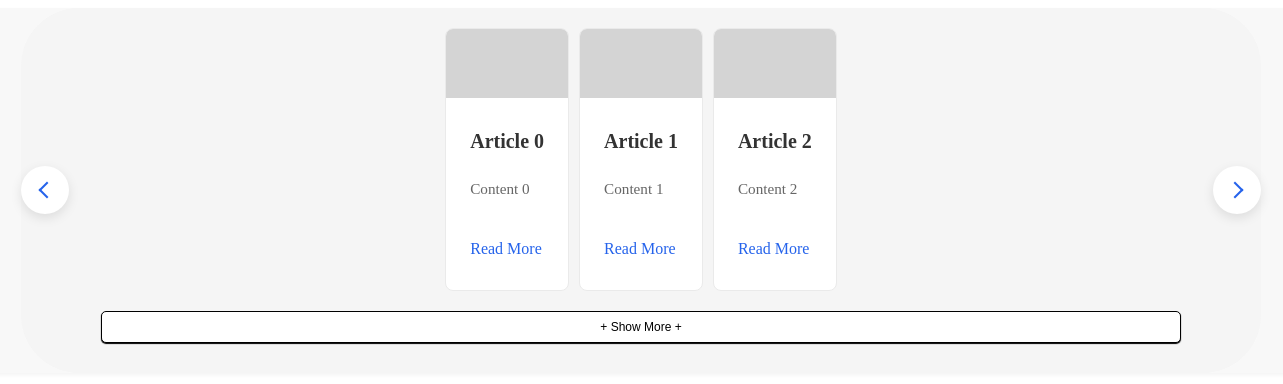
Test: ArticleCarousel › navigation › shows previous set of articles when clicking previous arrow
This screenshot has width=1283, height=384.
Navigate forward first
Click the button named "Next articles": (1237, 190) [1213,166,1261,214]
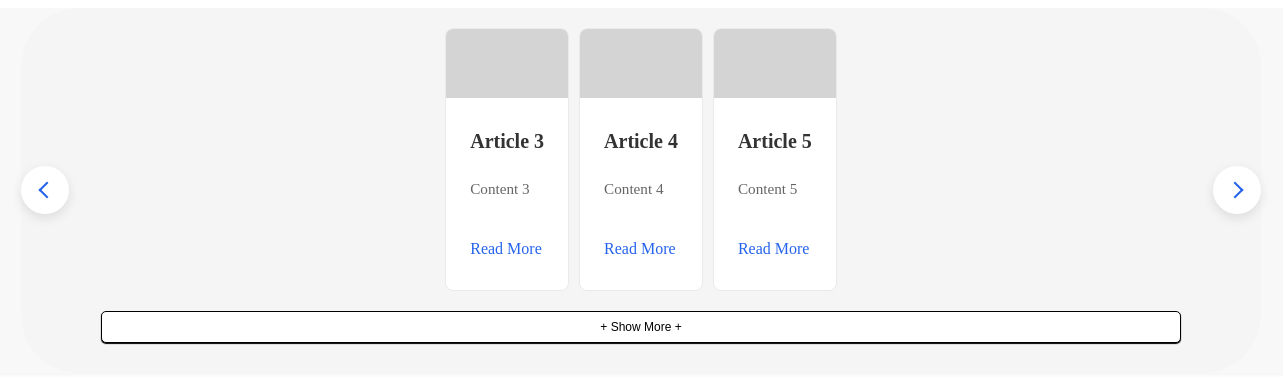
Then back
Click the button named "Previous articles": (45, 190) [21,166,69,214]
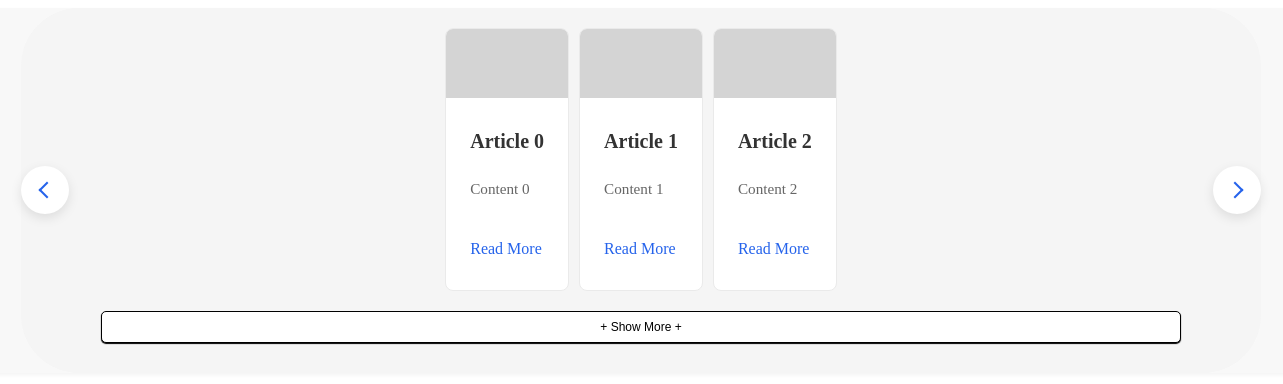
Check: the heading "Article 0" is shown, box [470,130,544,152]
